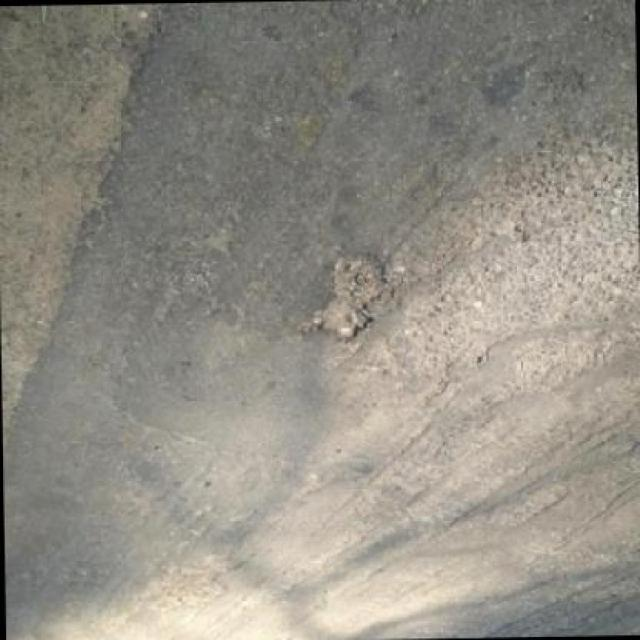pothole1: (292, 251, 392, 347), (140, 549, 245, 613)
